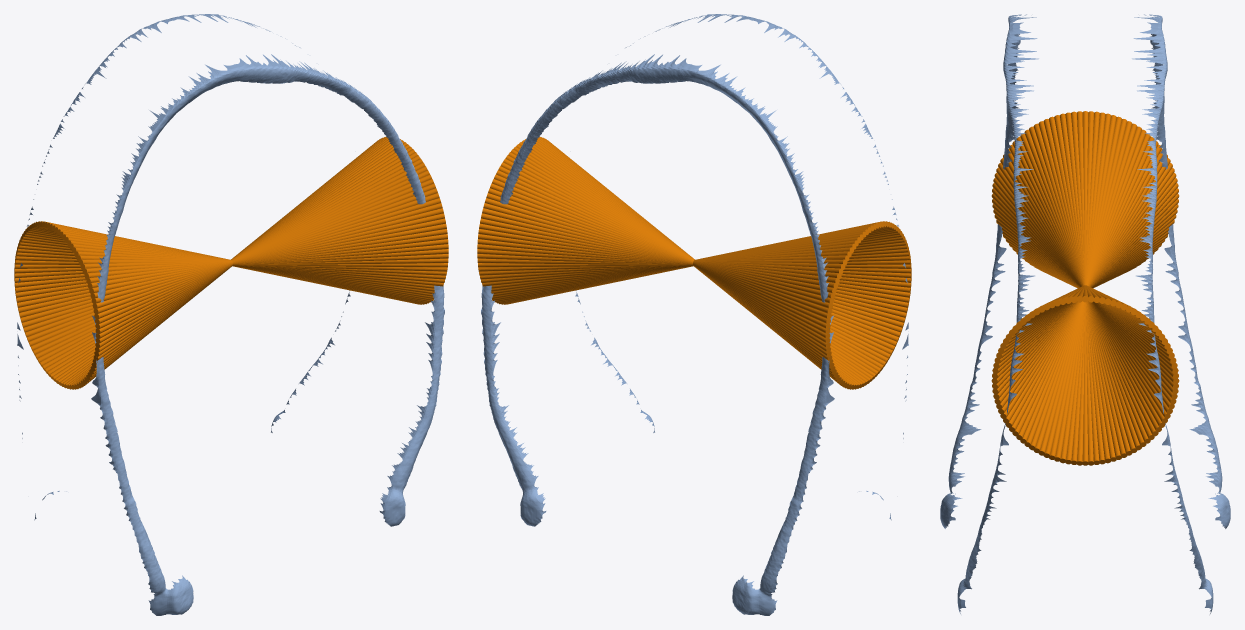
Rendered from A20021006_6145-37-530-7648_DigitalTwin.glb.
The picture shows the model from 3 angles, left to right: view 1: azimuth 30°, elevation 25°; view 2: azimuth 150°, elevation 25°; view 3: azimuth 270°, elevation 25°; orthographic projection. The views are drawn at different scales.
Parts seen in each view (by area): view 1: world; view 2: world; view 3: world.
Part boxes in pixels (<box>): world: <box>14,14,448,615</box>; world: <box>477,14,911,615</box>; world: <box>940,14,1230,613</box>.
Size of the model in its own units: 267 by 365 by 175.
